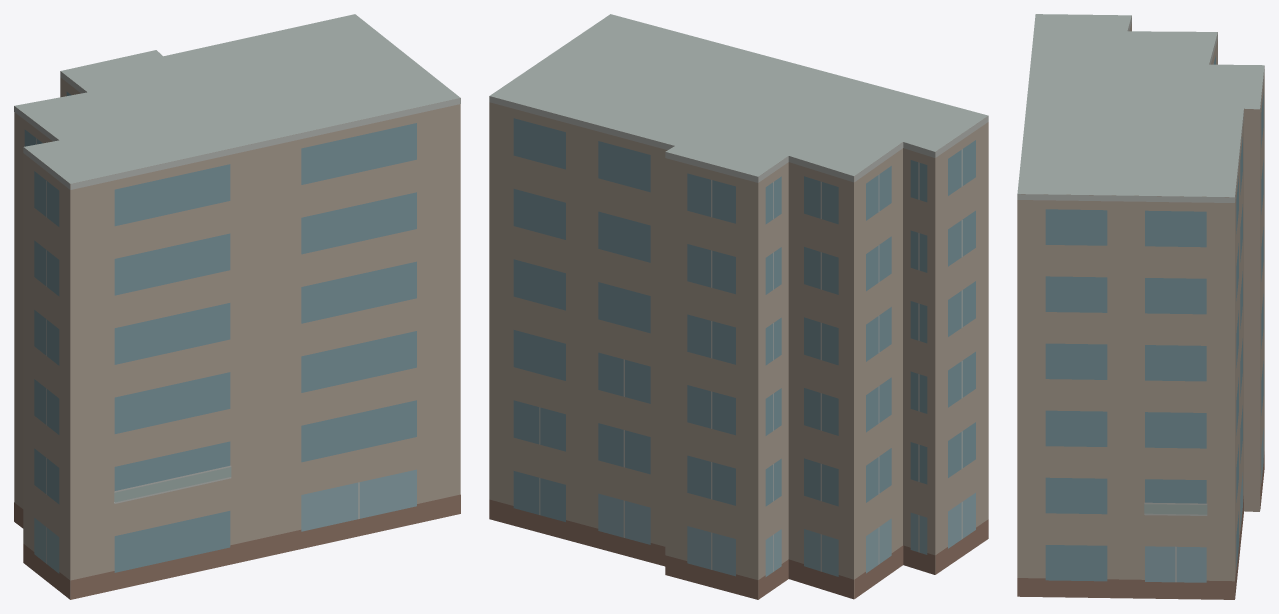
File: survey-upis-32871293.glb
The picture shows the model from 3 angles, left to right: view 1: azimuth 30°, elevation 25°; view 2: azimuth 150°, elevation 25°; view 3: azimuth 270°, elevation 25°; orthographic projection. The views are drawn at different scales.
Parts seen in each view (by area): view 1: survey-upis-32871293.tmp; view 2: survey-upis-32871293.tmp; view 3: survey-upis-32871293.tmp.
Part boxes in pixels (x1,y1,x2,y2): survey-upis-32871293.tmp: [14, 14, 460, 599]; survey-upis-32871293.tmp: [489, 14, 988, 599]; survey-upis-32871293.tmp: [1017, 14, 1264, 599].
Bounding box in the file's own units: 16.21 × 16.6 × 9.25.
